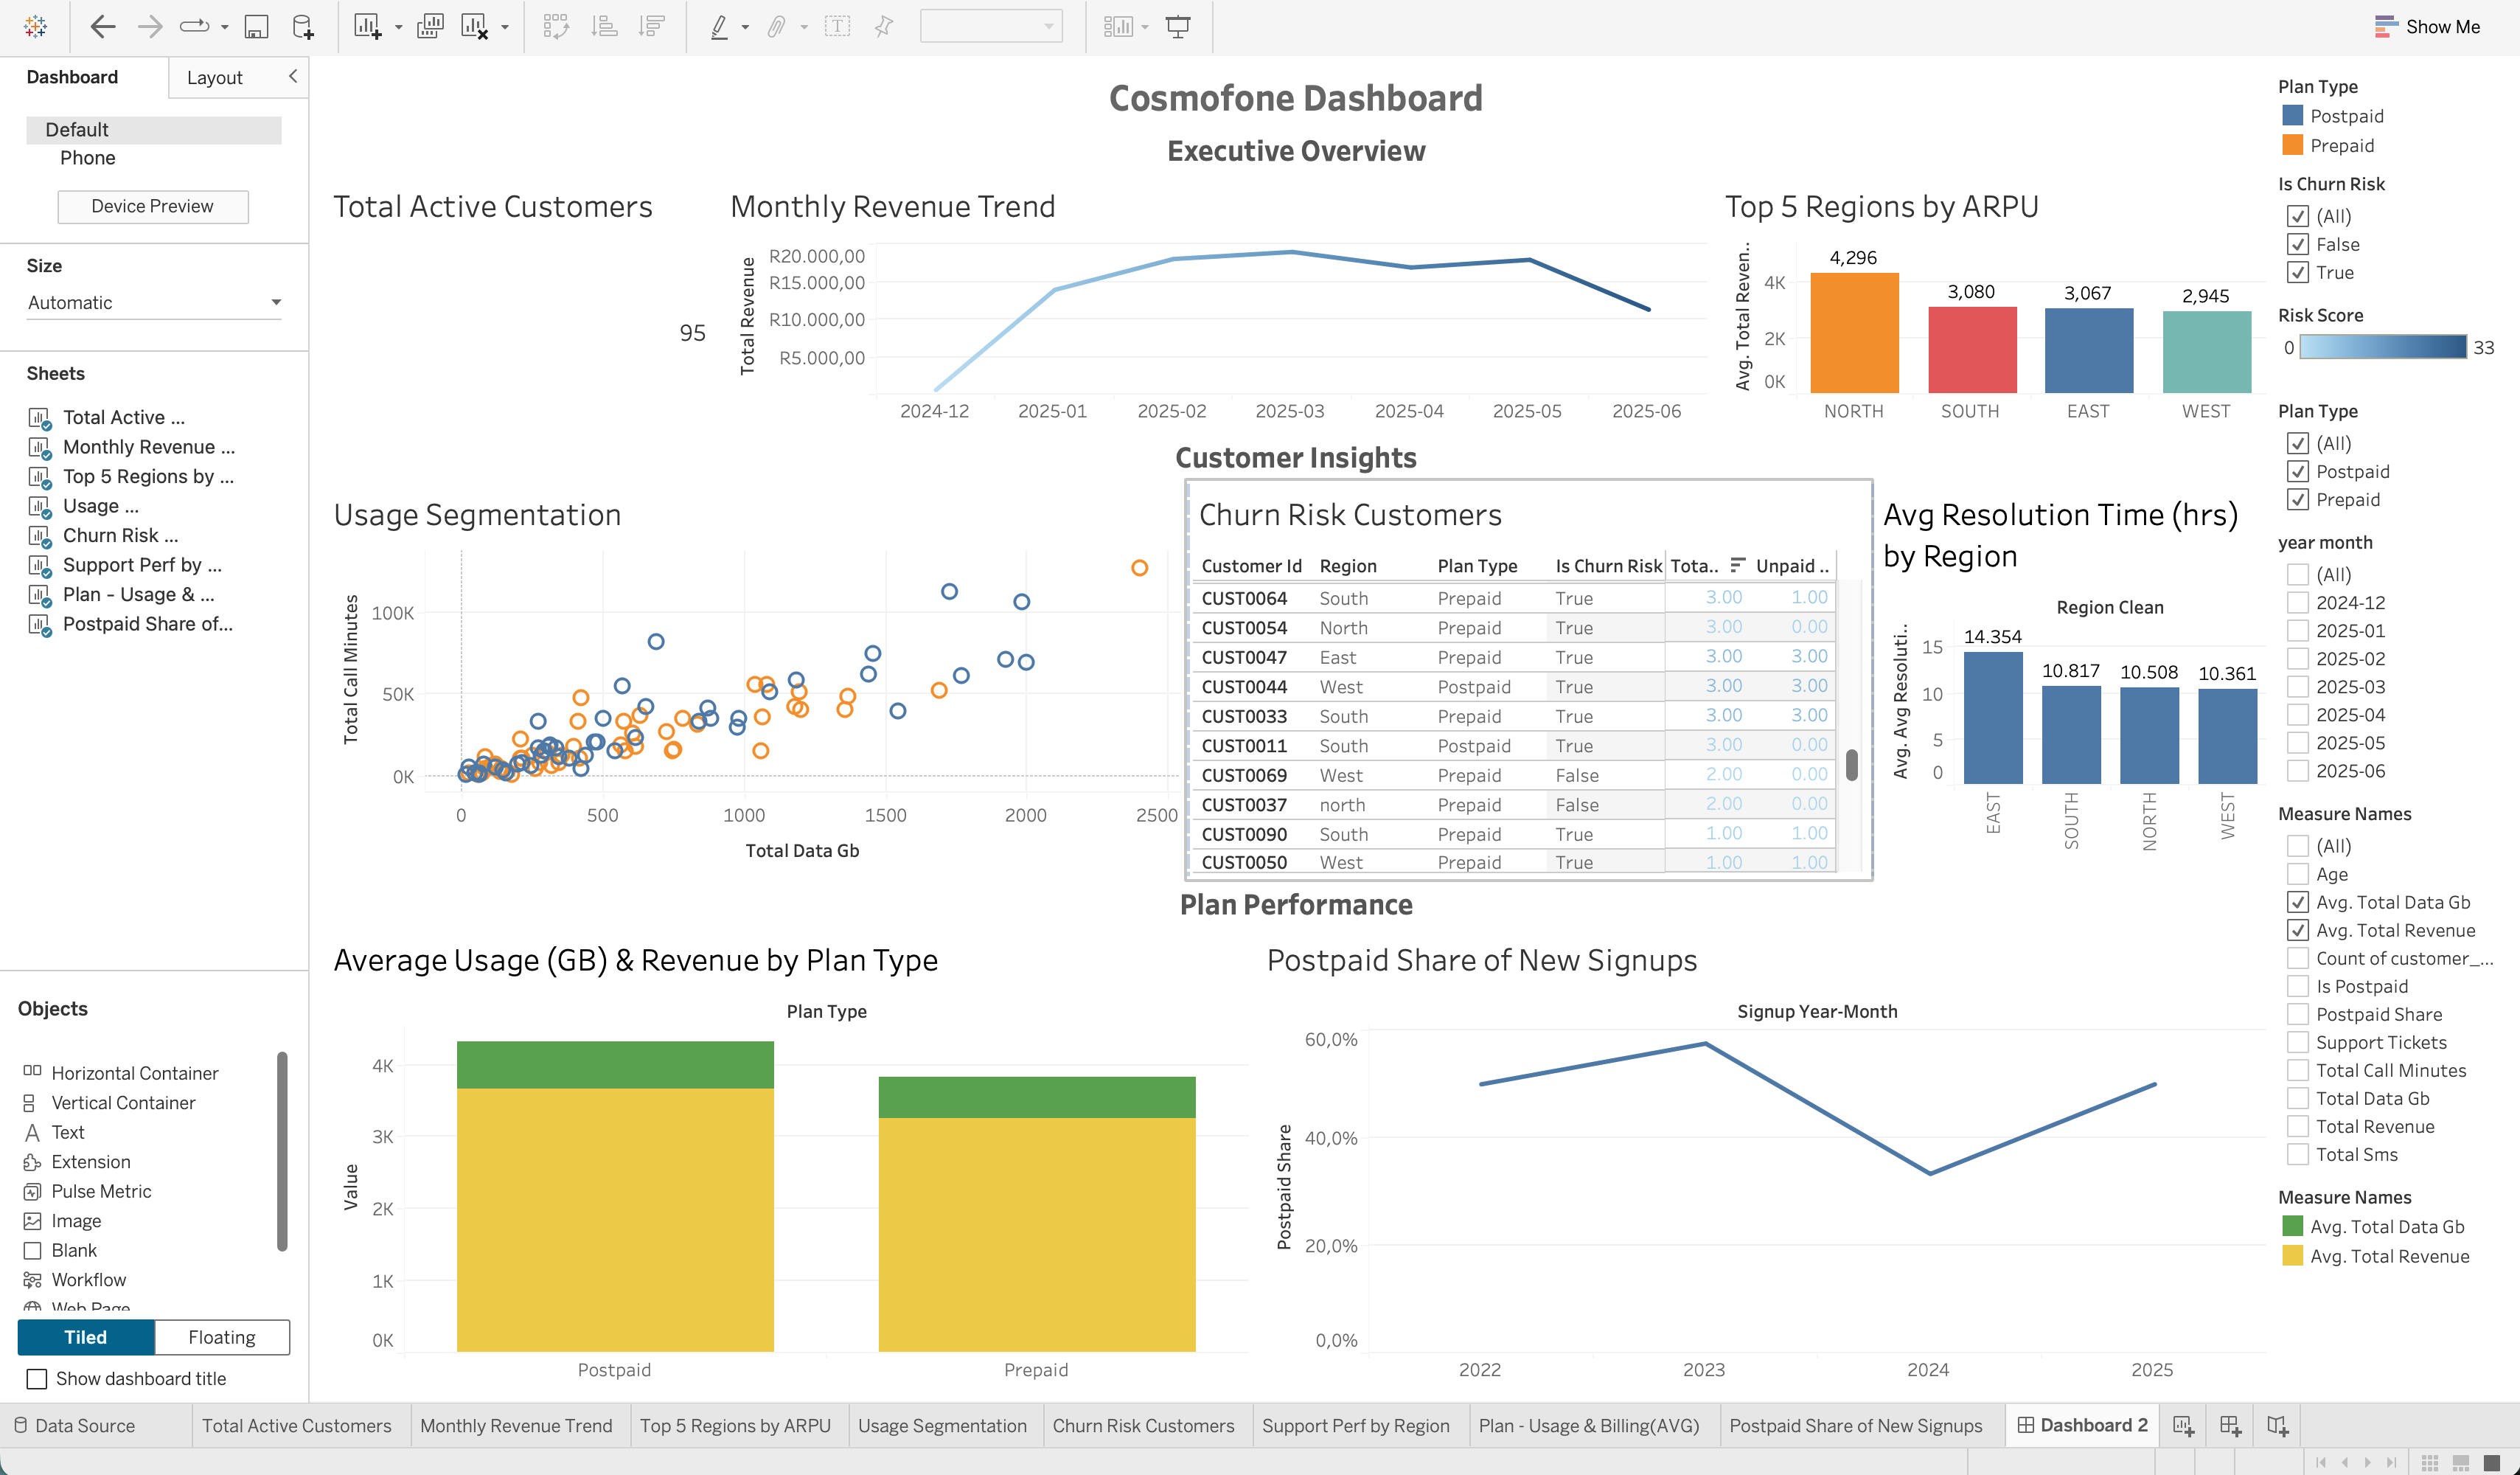

This screenshot's page, from the dashboard's own definition file:
{"tool":"tableau","page":{"name":"Dashboard 2","canvas":[1000,1000],"units":"permille","ordinal":0},"visuals":[{"type":"text","box":[5.3,8.8,882.6,42.5]},{"type":"legend","title":"Usage Segmentation","param":"[federated.1dgjpcp1p49fb91bwvp3415ook8o].[none:plan_type:nk]","box":[887.9,8.8,106.7,72.4]},{"type":"text","box":[5.3,51.2,882.6,35.1]},{"type":"filter","title":"Churn Risk Customers","param":"[federated.1v0cm7e1midszf1duy7it077fckt].[none:is_churn_risk:nk]","box":[887.9,81.1,106.7,97.6]},{"type":"worksheet","title":"Total Active Customers","mark":"Text","box":[5.3,86.3,179.5,191.9]},{"type":"worksheet","title":"Monthly Revenue Trend","mark":"Line","rows":["total_revenue"],"cols":["Calculation_4154500345965322240"],"box":[184.8,86.3,450.4,191.9]},{"type":"worksheet","title":"Top 5 Regions by ARPU","mark":"Automatic","rows":["total_revenue"],"cols":["Calculation_4154500345968455681"],"box":[635.1,86.3,252.8,191.9]},{"type":"legend","title":"Churn Risk Customers","param":"[federated.1v0cm7e1midszf1duy7it077fckt].[sum:Calculation_4154500345972146178:qk","box":[887.9,178.7,106.7,71.3]},{"type":"filter","title":"Support Perf by Region","param":"[federated.08blybm05o9tez10vpi1m1trnbuo].[none:plan_type:nk]","box":[887.9,250,106.7,97.6]},{"type":"text","box":[5.3,278.2,882.6,37.3]},{"type":"worksheet","title":"Usage Segmentation","mark":"Automatic","rows":["total_call_minutes"],"cols":["total_data_gb"],"box":[5.3,315.5,391.6,296.1]},{"type":"worksheet","title":"Churn Risk Customers","mark":"Automatic","rows":["customer_id","region","plan_type","is_churn_risk"],"box":[396.9,315.5,309.5,296.1]},{"type":"worksheet","title":"Support Perf by Region","mark":"Automatic","rows":["avg_resolution_hrs"],"cols":["Calculation_4154500345972862979"],"box":[706.5,315.5,181.4,296.1]},{"type":"filter","title":"Support Perf by Region","param":"[federated.08blybm05o9tez10vpi1m1trnbuo].[none:Calculation_4154500345973551108:n","box":[887.9,347.6,106.7,201.8]},{"type":"filter","title":"Plan - Usage & Billing(AVG)","param":"[federated.1dgjpcp1p49fb91bwvp3415ook8o].[:Measure Names]","box":[887.9,549.3,106.7,285.1]},{"type":"text","box":[5.3,611.5,882.6,35.1]},{"type":"worksheet","title":"Plan - Usage & Billing(AVG)","mark":"Automatic","cols":["plan_type"],"box":[5.3,646.6,422.3,344.6]},{"type":"worksheet","title":"Postpaid Share of New Signups","mark":"Automatic","rows":["Calculation_5964877028035514370"],"cols":["Calculation_5964877028035117056"],"box":[427.6,646.6,460.3,344.6]},{"type":"legend","title":"Plan - Usage & Billing(AVG)","param":"[federated.1dgjpcp1p49fb91bwvp3415ook8o].[:Measure Names]","box":[887.9,834.4,106.7,72.4]}]}

Visuals, with their boxes on the dashboard's canvas, which has no fixed pixel size, in thousandths of its width and height (x1, y1, x2, y2). These are canvas units, not pixel positions in the 2520x1475 screenshot, which may show the page scaled, cropped or inside an application window:
text: 5,9,888,51
"Usage Segmentation" legend: 888,9,995,81
text: 5,51,888,86
"Churn Risk Customers" filter: 888,81,995,179
"Total Active Customers" worksheet (Text marks): 5,86,185,278
"Monthly Revenue Trend" worksheet (Line marks): 185,86,635,278
"Top 5 Regions by ARPU" worksheet: 635,86,888,278
"Churn Risk Customers" legend: 888,179,995,250
"Support Perf by Region" filter: 888,250,995,348
text: 5,278,888,316
"Usage Segmentation" worksheet: 5,316,397,612
"Churn Risk Customers" worksheet: 397,316,706,612
"Support Perf by Region" worksheet: 706,316,888,612
"Support Perf by Region" filter: 888,348,995,549
"Plan - Usage & Billing(AVG)" filter: 888,549,995,834
text: 5,612,888,647
"Plan - Usage & Billing(AVG)" worksheet: 5,647,428,991
"Postpaid Share of New Signups" worksheet: 428,647,888,991
"Plan - Usage & Billing(AVG)" legend: 888,834,995,907
